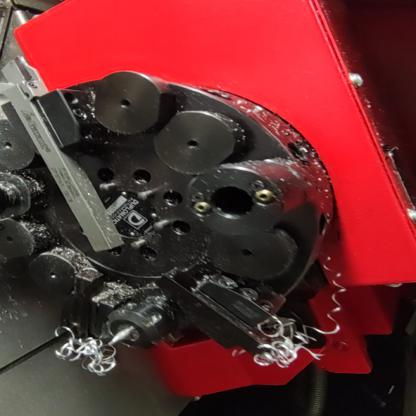bit: (0, 74, 133, 259), (145, 262, 309, 361), (53, 264, 116, 365)
